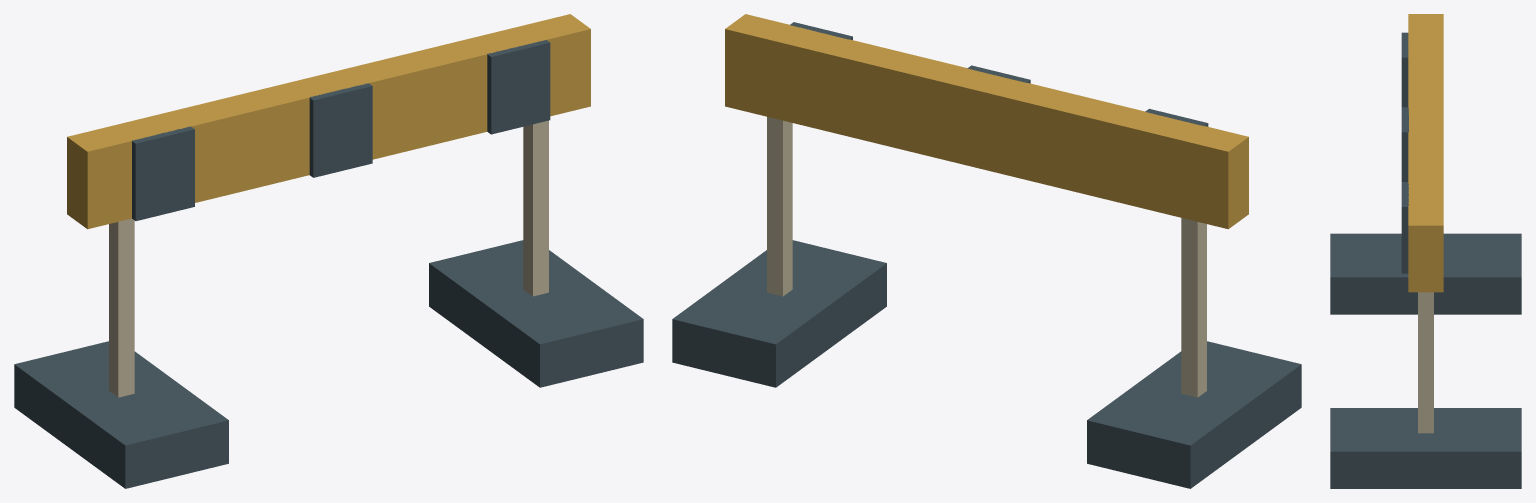
The model's file is road_barrier.glb.
The picture shows the model from 3 angles, left to right: view 1: azimuth 30°, elevation 25°; view 2: azimuth 150°, elevation 25°; view 3: azimuth 270°, elevation 25°; orthographic projection. The views are drawn at different scales.
Visible parts, largest first — view 1: road_barrier; view 2: road_barrier; view 3: road_barrier.
Boxes of the visible parts, x1,y1,x2,y2 form: road_barrier: (14, 14, 643, 488); road_barrier: (672, 14, 1301, 488); road_barrier: (1330, 14, 1521, 488).
Bounding box in the file's own units: 1.75 × 0.975 × 0.65.
